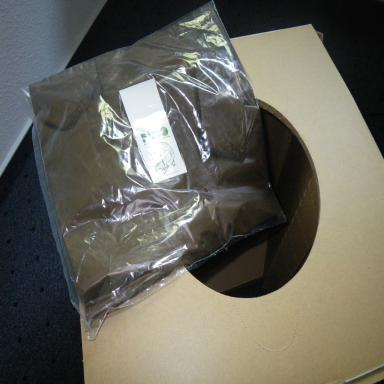plasticbag: (14, 0, 288, 340)
